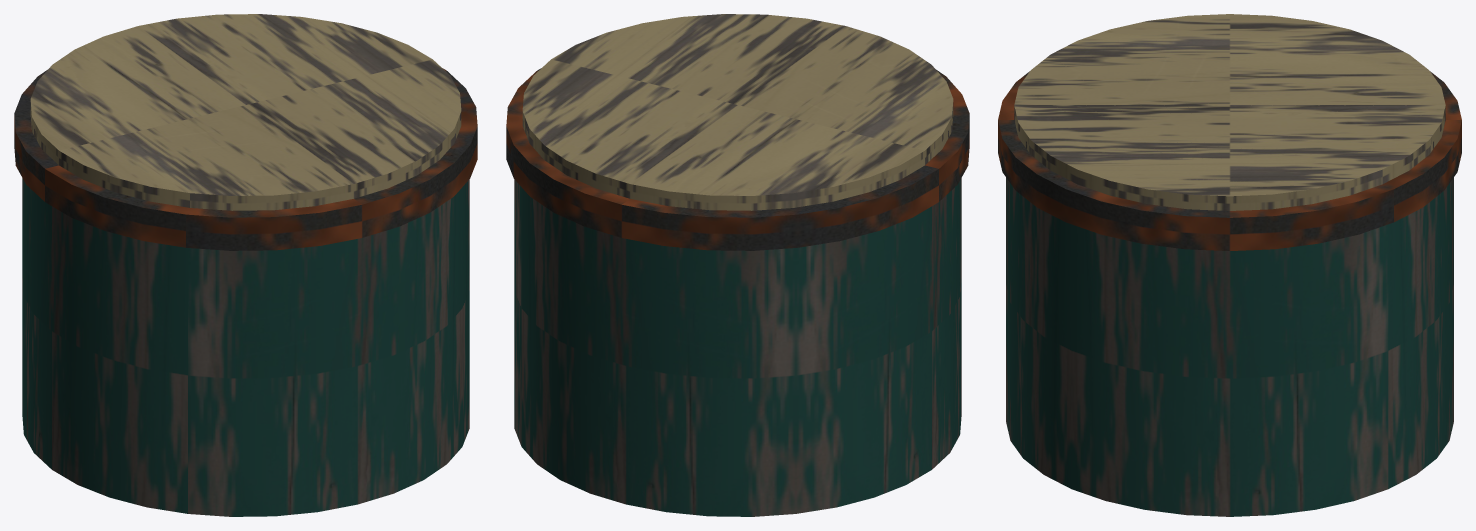
File: SM_ToffeeTin_b52006231e.fbx
3 renders of one model, left to right at view 1: azimuth 30°, elevation 25°; view 2: azimuth 150°, elevation 25°; view 3: azimuth 270°, elevation 25°, orthographic.
Visible parts, largest first — view 1: SM_ToffeeTin_b52006231e; view 2: SM_ToffeeTin_b52006231e; view 3: SM_ToffeeTin_b52006231e.
Part boxes in pixels (box(x1,y1,x2,y2)): SM_ToffeeTin_b52006231e: box(14, 14, 477, 516); SM_ToffeeTin_b52006231e: box(506, 14, 969, 516); SM_ToffeeTin_b52006231e: box(998, 14, 1461, 516).
Size of what is drawn, in the model's own units: 22.8 by 22.8 by 17.2.
Materials: 3 (3 with a texture image).
